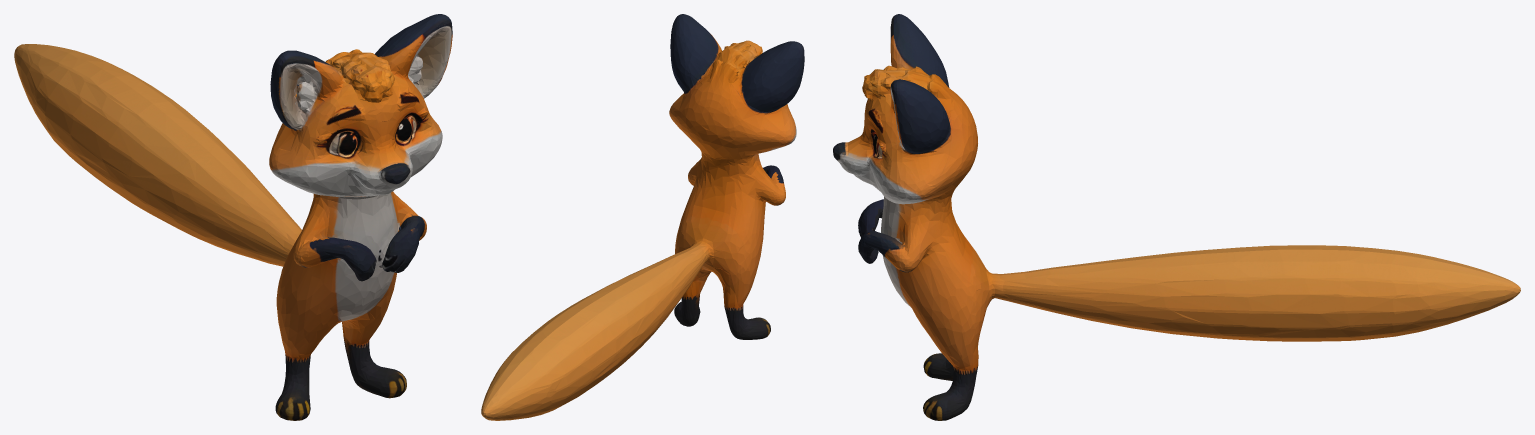
File: npc_fox.glb
3 renders of one model, left to right at view 1: azimuth 30°, elevation 25°; view 2: azimuth 150°, elevation 25°; view 3: azimuth 270°, elevation 25°, orthographic. The views are drawn at different scales.
Visible parts, largest first — view 1: textured_mesh.obj; view 2: textured_mesh.obj; view 3: textured_mesh.obj.
Part boxes in pixels (left/top/right/bottom): textured_mesh.obj: left=14, top=14, right=452, bottom=420; textured_mesh.obj: left=481, top=14, right=804, bottom=420; textured_mesh.obj: left=833, top=14, right=1520, bottom=420.
Bounding box in the file's own units: 0.5288 × 1.11 × 1.99.
1 material, 1 textured.
